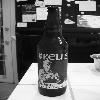beer: (36, 6, 72, 100)
